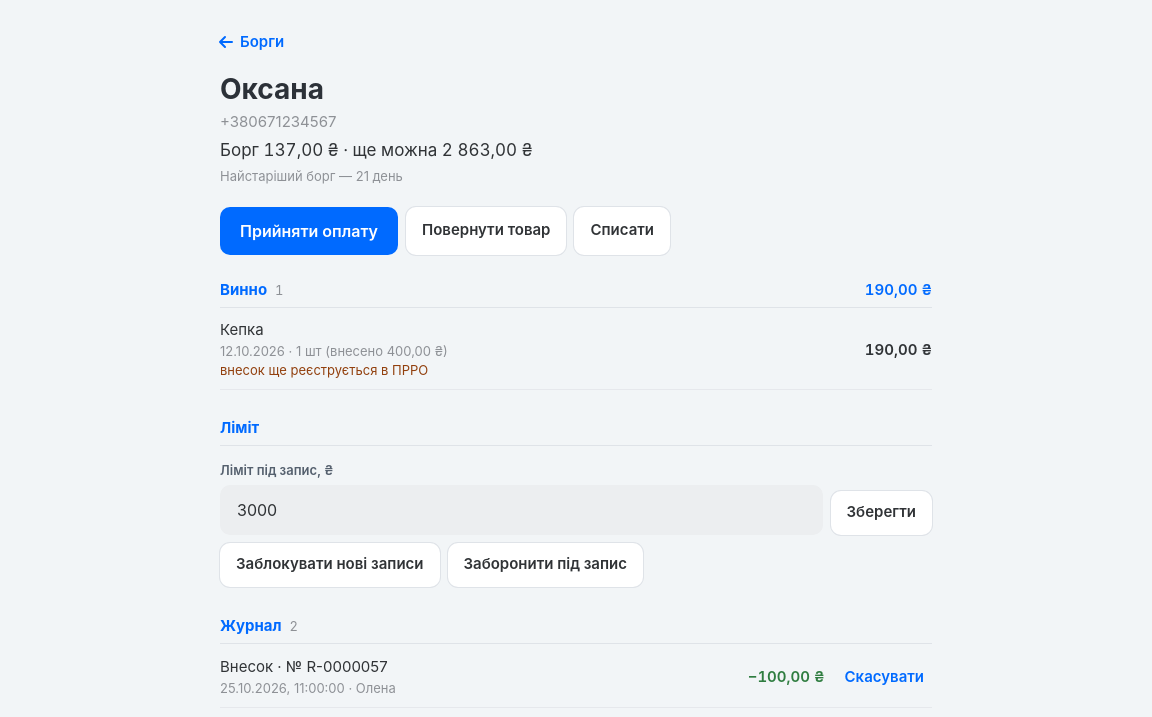
Test: one customer’s statement › under ПРРО offers no undo of a «внесок» in its chain, and one ПРРО gave up on only to the owner, with a warning
Expected: the text "внесок ще реєструється в ПРРО" is shown, [220, 362, 428, 378]
Expected: the heading "Оксана" is shown, [220, 72, 324, 106]
Step 1. Click the button "Скасувати" → (884, 677), box [836, 655, 932, 699]
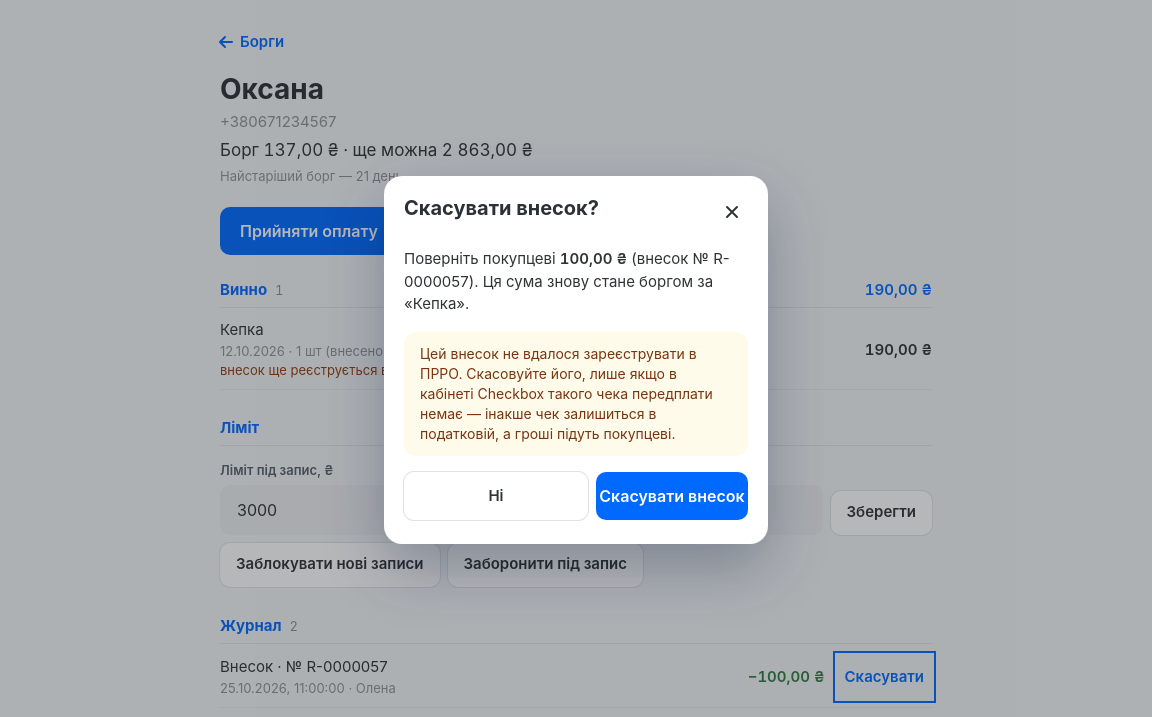
Expected: the text with test id "debts-undo-unregistered" shows "лише якщо в кабінеті Checkbox", [420, 345, 713, 442]
